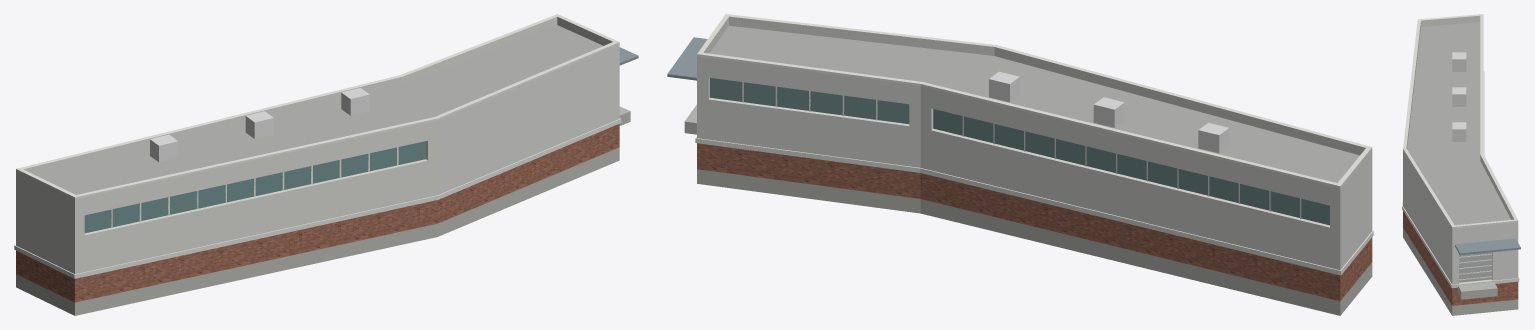
The picture shows the model from 3 angles, left to right: view 1: azimuth 30°, elevation 25°; view 2: azimuth 150°, elevation 25°; view 3: azimuth 270°, elevation 25°; orthographic projection. The views are drawn at different scales.
Parts seen in each view (by area): view 1: SA1 pale grey panel walls, SA1 grey roof, SA1 red brick lower storeys, SA1 white frames, SA1 concrete retaining base, SA1 grey green glass, SA1 rooftop condensers; view 2: SA1 pale grey panel walls, SA1 grey roof, SA1 red brick lower storeys, SA1 grey green glass, SA1 concrete retaining base, SA1 white frames, SA1 rooftop condensers, SA1 metal awning; view 3: SA1 grey roof, SA1 pale grey panel walls, SA1 white frames, SA1 concrete retaining base, SA1 red brick lower storeys, SA1 rooftop condensers, SA1 grey roller shutter, SA1 metal awning.
Part boxes in pixels (<box>): SA1 pale grey panel walls: <box>16,17,619,273</box>; SA1 grey roof: <box>35,25,602,194</box>; SA1 red brick lower storeys: <box>16,124,619,302</box>; SA1 white frames: <box>14,14,621,278</box>; SA1 concrete retaining base: <box>16,106,630,315</box>; SA1 grey green glass: <box>84,141,425,233</box>; SA1 rooftop condensers: <box>150,88,369,162</box>; SA1 pale grey panel walls: <box>697,16,1372,270</box>; SA1 grey roof: <box>709,25,1359,182</box>; SA1 red brick lower storeys: <box>697,143,1372,301</box>; SA1 grey green glass: <box>710,78,1329,225</box>; SA1 concrete retaining base: <box>684,104,1372,315</box>; SA1 white frames: <box>695,14,1373,275</box>; SA1 rooftop condensers: <box>989,71,1229,153</box>; SA1 metal awning: <box>667,37,707,80</box>; SA1 grey roof: <box>1407,22,1510,225</box>; SA1 pale grey panel walls: <box>1403,15,1518,284</box>; SA1 white frames: <box>1402,14,1519,288</box>; SA1 concrete retaining base: <box>1403,228,1518,315</box>; SA1 red brick lower storeys: <box>1403,211,1518,305</box>; SA1 rooftop condensers: <box>1452,52,1466,141</box>; SA1 grey roller shutter: <box>1459,252,1491,282</box>; SA1 metal awning: <box>1455,238,1520,255</box>.
Size of the model in its own units: 38.11 by 7.6 by 8.6.
9 materials, 1 textured.
